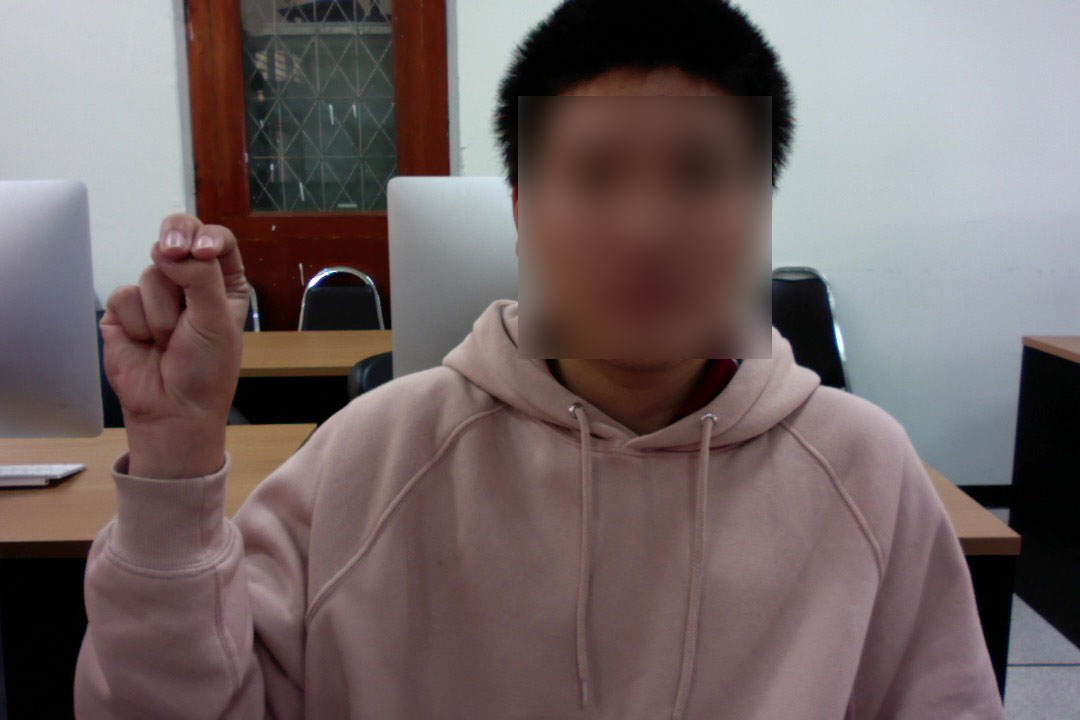nor: (91, 203, 265, 463)
